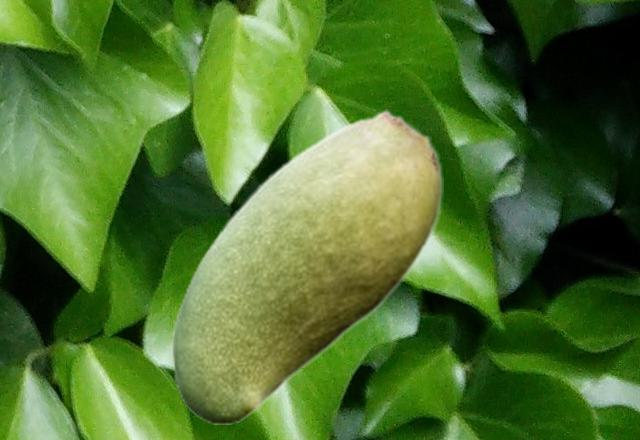green_mango: (171, 109, 442, 423)
